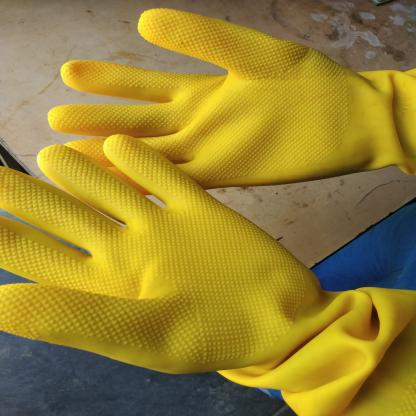gloved_hand: (1, 132, 416, 416), (48, 6, 415, 192)
